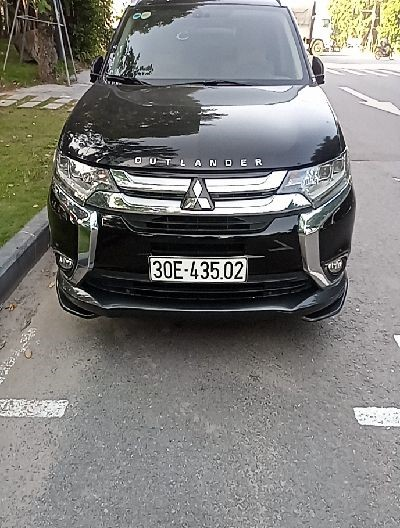number_plate: (138, 248, 250, 293)
